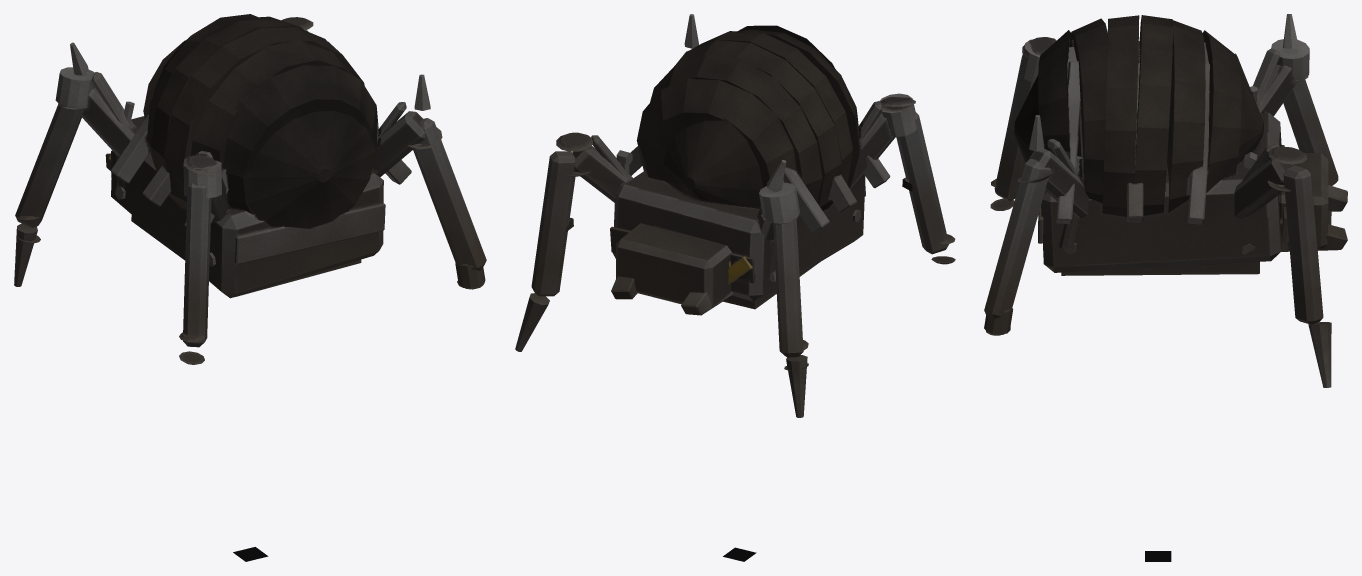
File: chs_blister_wreck.fbx
The picture shows the model from 3 angles, left to right: view 1: azimuth 30°, elevation 25°; view 2: azimuth 150°, elevation 25°; view 3: azimuth 270°, elevation 25°; orthographic projection. The views are drawn at different scales.
Visible parts, largest first — view 1: base_bar, shinBR_bar, shinFL_bar, shinBL_bar, thighFL_bar, thighBR_bar, thighBL_bar; view 2: base_bar, torso_bar, shinFR_bar, shinFL_bar, shinBL_bar, thighBL_bar, thighFR_bar, thighFL_bar; view 3: base_bar, shinFR_bar, shinBR_bar, thighFR_bar, thighFL_bar, torso_bar, thighBR_bar, shinFL_bar, shinBL_bar, thighBL_bar.
Part boxes in pixels (<box>): base_bar: <box>108,14,411,298</box>; shinBR_bar: <box>413,74,486,289</box>; shinFL_bar: <box>14,42,88,286</box>; shinBL_bar: <box>179,183,211,364</box>; thighFL_bar: <box>55,67,137,199</box>; thighBR_bar: <box>371,102,442,177</box>; thighBL_bar: <box>183,151,227,266</box>; base_bar: <box>610,25,890,309</box>; torso_bar: <box>611,223,733,315</box>; shinFR_bar: <box>515,151,575,351</box>; shinFL_bar: <box>767,160,808,417</box>; shinBL_bar: <box>896,112,955,264</box>; thighBL_bar: <box>849,93,916,221</box>; thighFR_bar: <box>556,132,632,202</box>; thighFL_bar: <box>757,180,800,281</box>; base_bar: <box>1014,15,1287,275</box>; shinFR_bar: <box>1283,166,1331,387</box>; shinBR_bar: <box>984,115,1050,335</box>; thighFR_bar: <box>1234,143,1306,254</box>; thighFL_bar: <box>1250,39,1309,116</box>; torso_bar: <box>1279,152,1347,251</box>; thighBR_bar: <box>1018,139,1089,254</box>; shinFL_bar: <box>1283,14,1338,224</box>; shinBL_bar: <box>990,57,1033,210</box>; thighBL_bar: <box>1019,37,1056,82</box>.
Size of the model in its own units: 267 by 446 by 277.
Materials: 2 (2 with a texture image).
